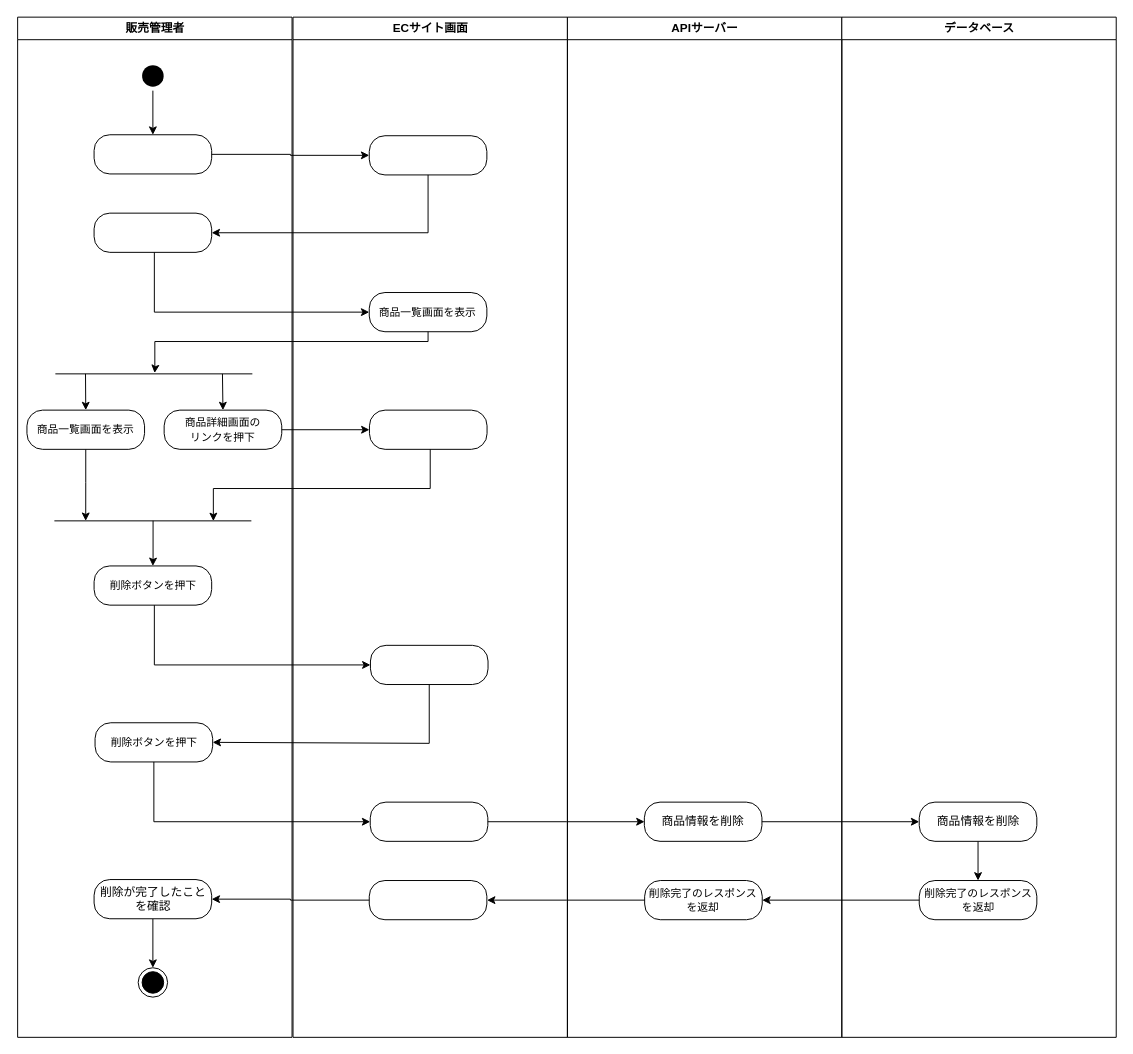
The diagram is 1133 pixels wide and 1054 high, and some of its shapes have lost their labels. Here are the shapes that lost their labels. From the top down, the centre of each, then its label:
[152,154]: 商品管理画面に アクセス
[427,155]: 商品管理画面を表示
[152,232]: 商品一覧画面の リンクを押下
[427,429]: 商品詳細画面を表示
[428,664]: 削除ダイアログを表示
[428,821]: 商品情報削除 APIリクエストを送信
[427,900]: 商品管理画面に 削除完了の メッセージを表示
